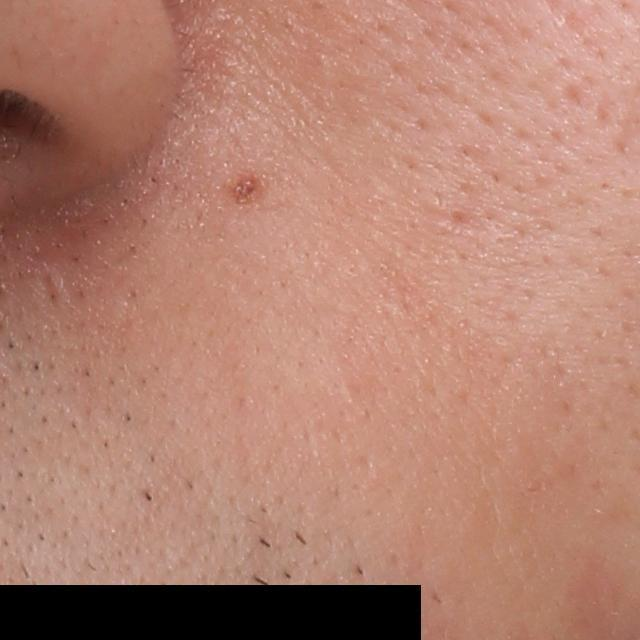nevus: (226, 171, 273, 216)
